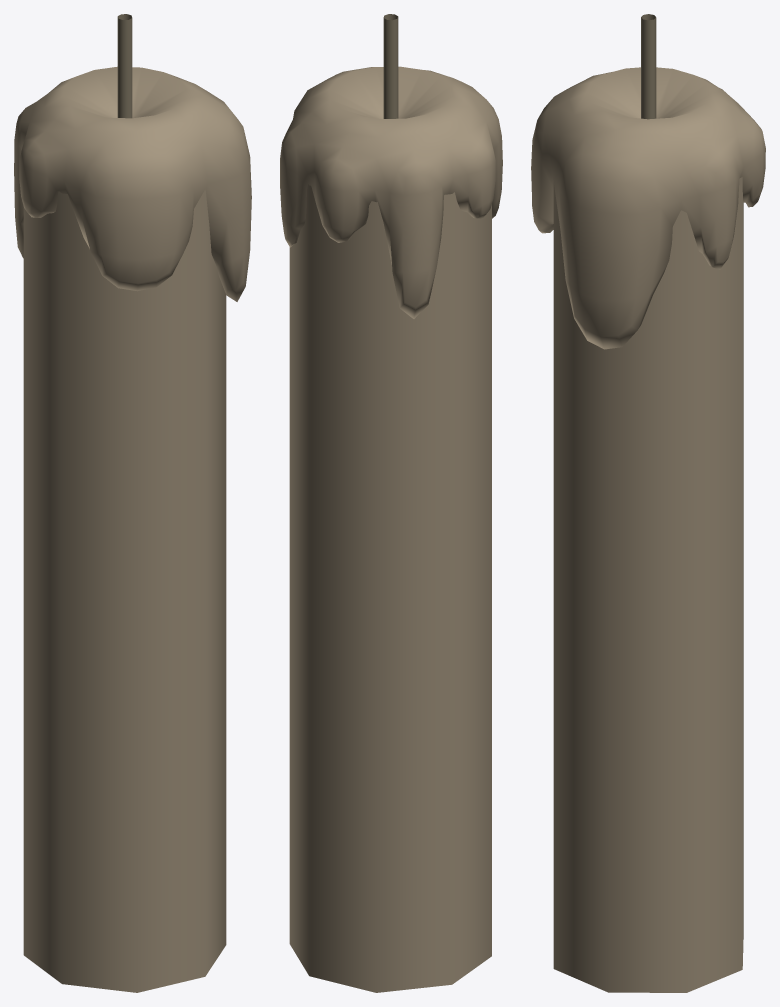
The model's file is VelaPequena.fbx.
3 renders of one model, left to right at view 1: azimuth 30°, elevation 25°; view 2: azimuth 150°, elevation 25°; view 3: azimuth 270°, elevation 25°, orthographic.
Visible parts, largest first — view 1: Vela.P, Pavio.P; view 2: Vela.P, Pavio.P; view 3: Vela.P, Pavio.P.
Part boxes in pixels (x1,y1,x2,y2): Vela.P: (14,66,251,992); Pavio.P: (117,14,132,118); Vela.P: (280,66,502,992); Pavio.P: (383,14,398,118); Vela.P: (531,67,765,992); Pavio.P: (641,14,656,119).
Size of the model in its own units: 5.48 by 23.59 by 5.36.
